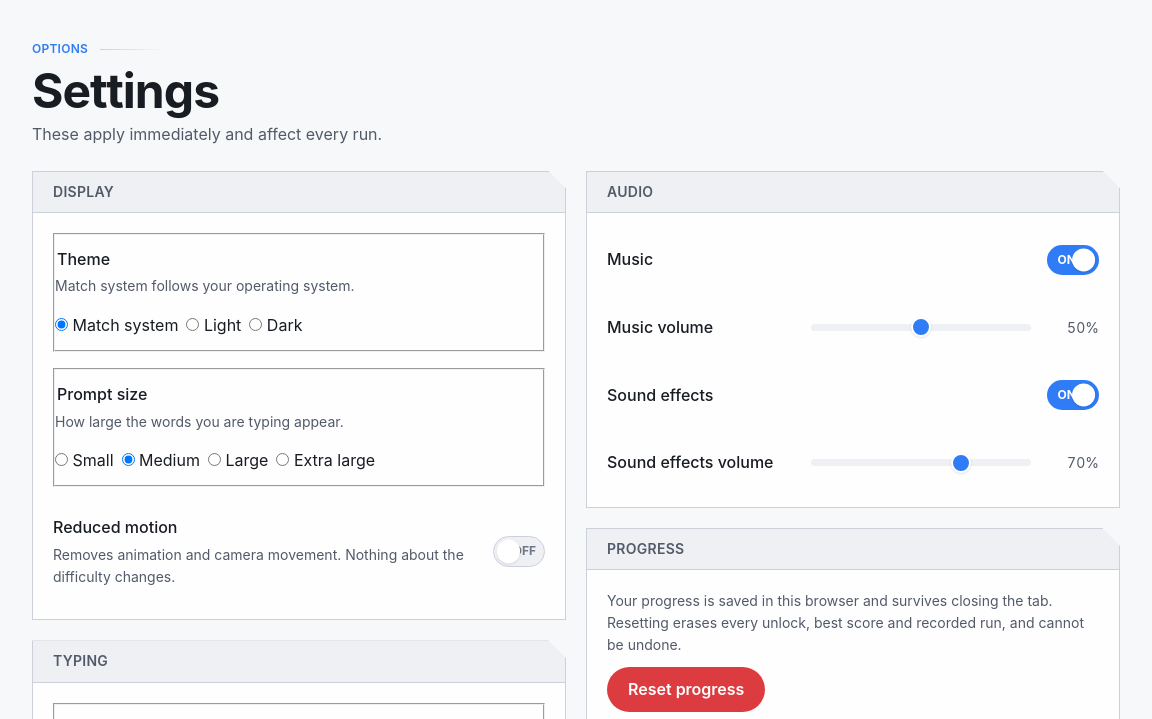
resetting progress › asks before wiping anything
What coordinates should you click on to do the following:
click the button "Reset progress"
I would click on:
 (686, 689)
Its box is [607, 667, 765, 712].
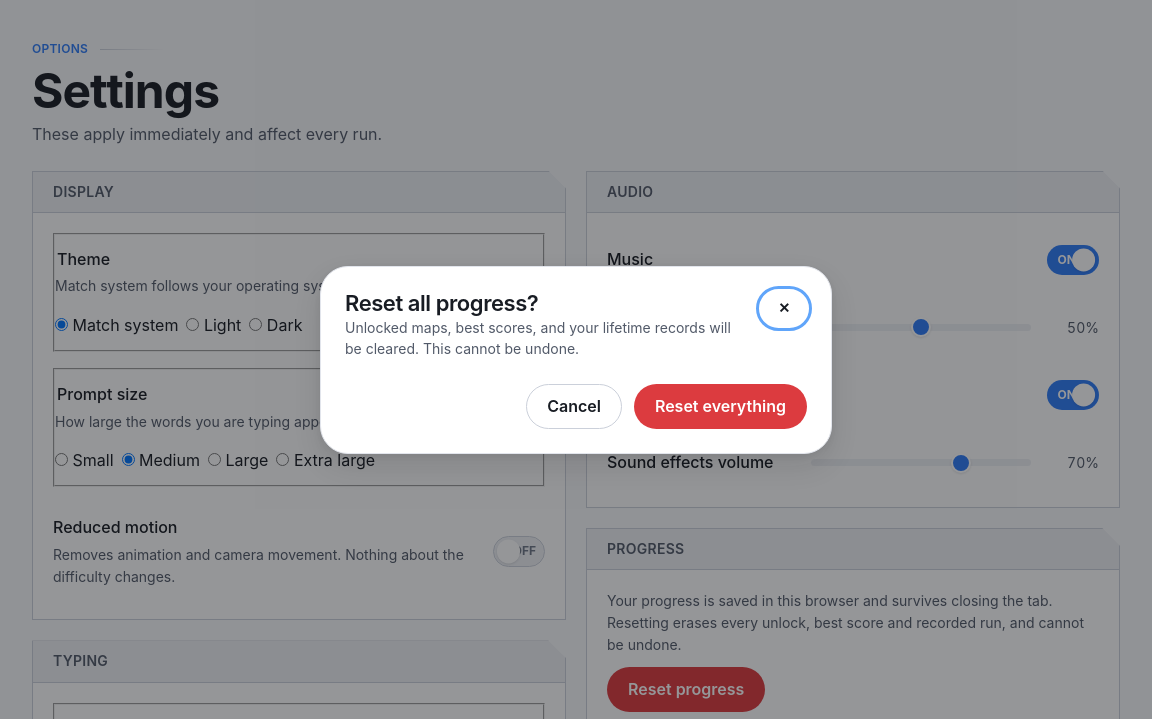
Expected: the dialog "Reset all progress?" is shown, [320, 266, 832, 454]
